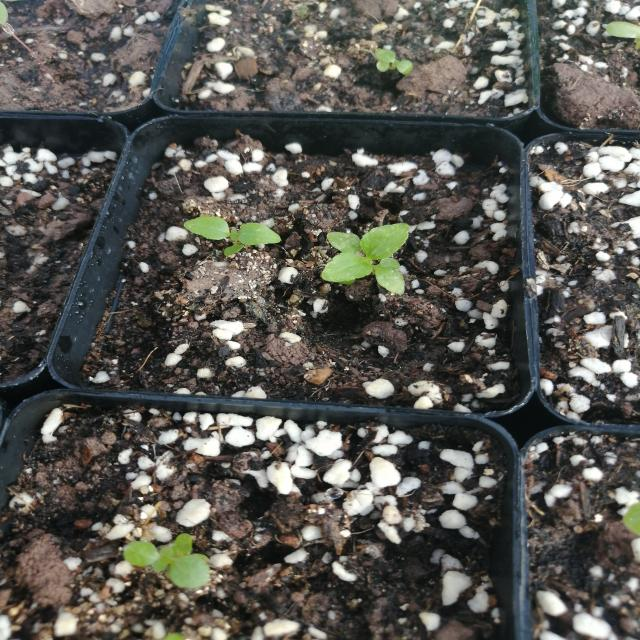billygoat_weed: (321, 201, 443, 302), (112, 526, 225, 590)
